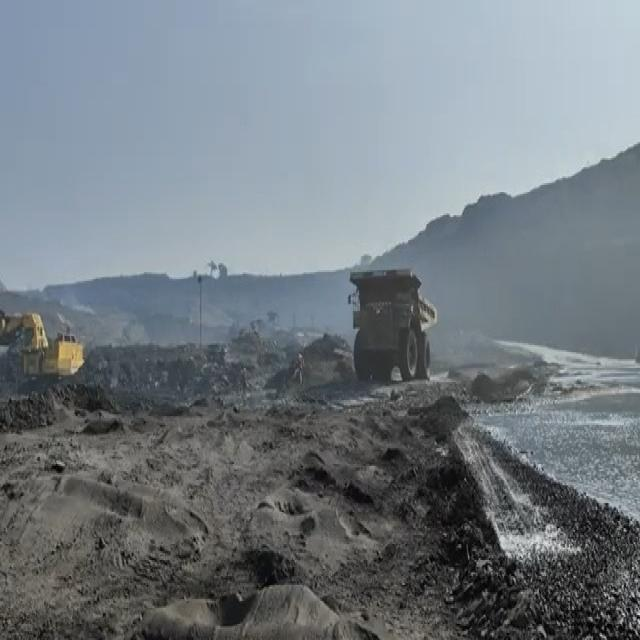dump_truck: (345, 262, 438, 388)
excavator: (0, 310, 83, 380)
